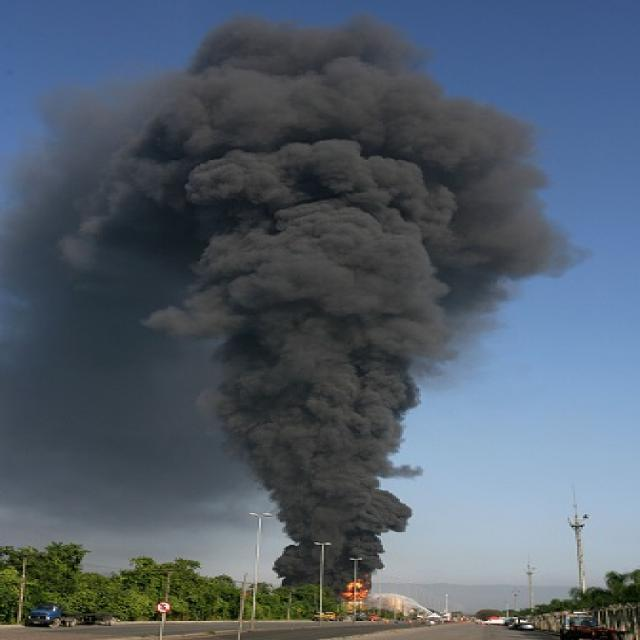Fire: (341, 582, 368, 601)
Smoke: (34, 12, 571, 577)
